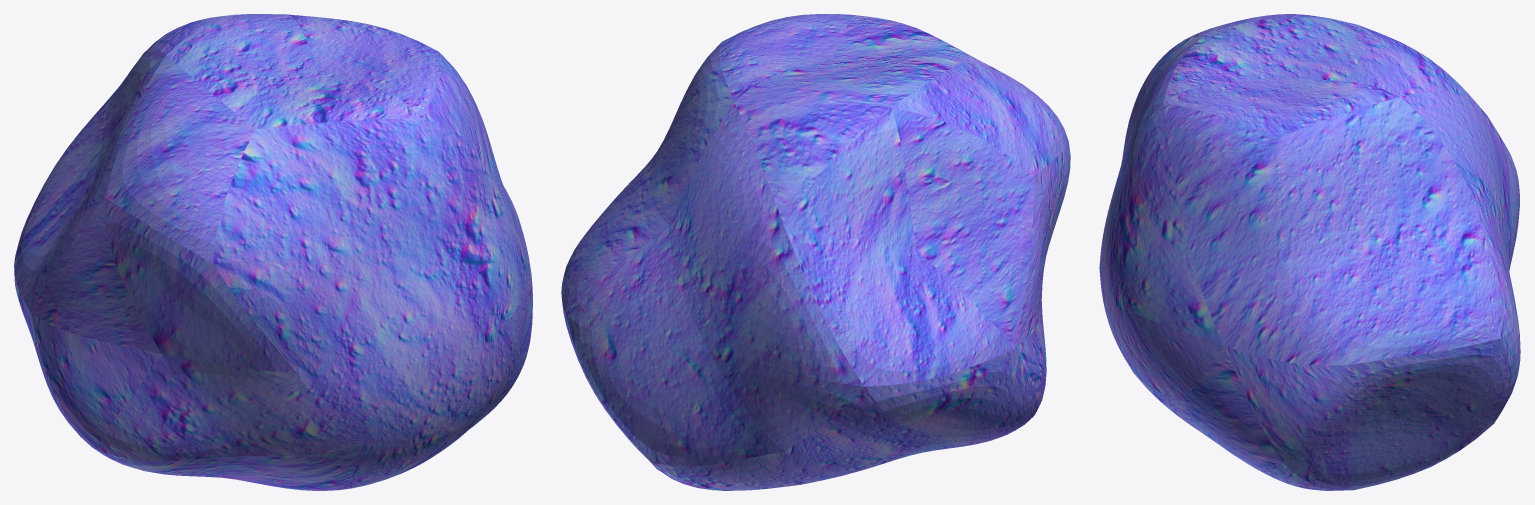
File: bigasteroid5_LOD1.fbx
The picture shows the model from 3 angles, left to right: view 1: azimuth 30°, elevation 25°; view 2: azimuth 150°, elevation 25°; view 3: azimuth 270°, elevation 25°; orthographic projection. The views are drawn at different scales.
Parts seen in each view (by area): view 1: Icosphere; view 2: Icosphere; view 3: Icosphere.
Boxes of the visible parts, <box> form: Icosphere: <box>14,14,532,490</box>; Icosphere: <box>561,14,1070,490</box>; Icosphere: <box>1099,14,1520,490</box>.
Bounding box in the file's own units: 245 × 223 × 219.
